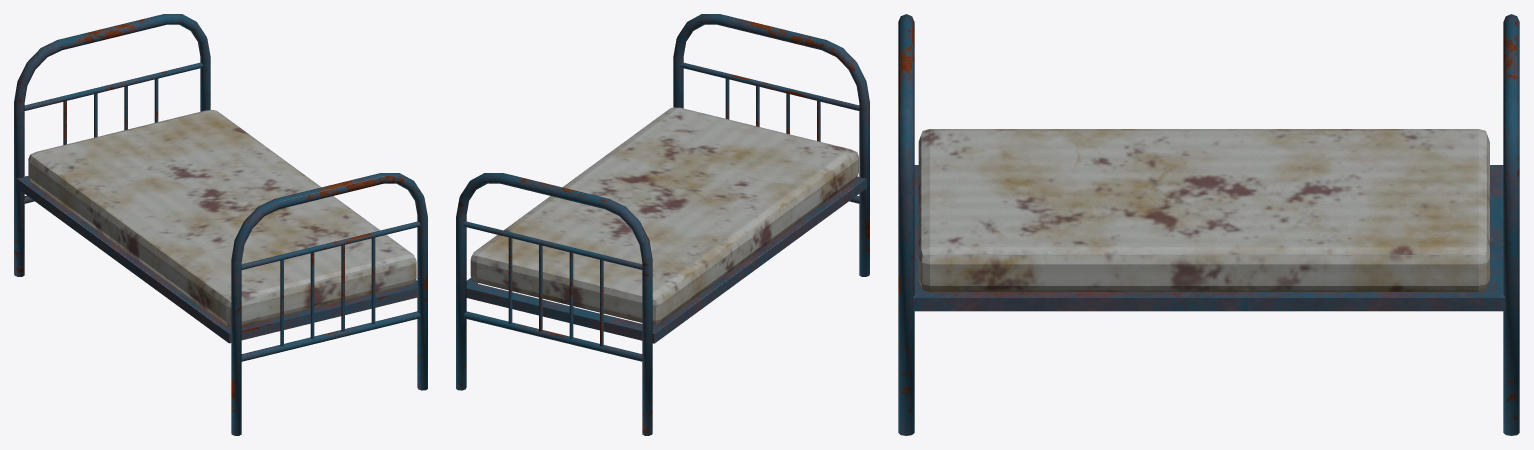
The model's file is bed_old.glb.
The picture shows the model from 3 angles, left to right: view 1: azimuth 30°, elevation 25°; view 2: azimuth 150°, elevation 25°; view 3: azimuth 270°, elevation 25°; orthographic projection. The views are drawn at different scales.
Visible parts, largest first — view 1: Low; view 2: Low; view 3: Low.
Boxes of the visible parts, x1=… form: Low: x1=14, y1=14, x2=427, y2=435; Low: x1=456, y1=14, x2=869, y2=435; Low: x1=898, y1=14, x2=1519, y2=435.
Bounding box in the file's own units: 1.01 × 1.11 × 2.
1 material, 1 textured.
